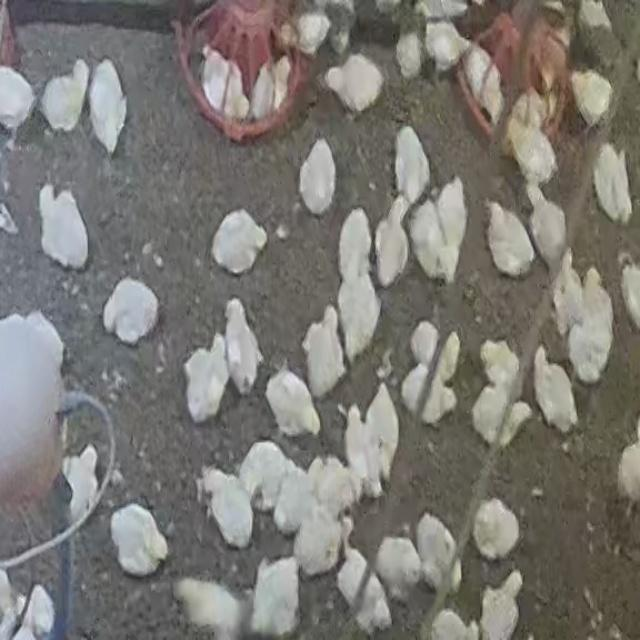chicken: (335, 212, 379, 356), (564, 268, 616, 384), (36, 181, 92, 273), (335, 546, 392, 633), (182, 329, 232, 427), (197, 469, 255, 550), (86, 56, 132, 158), (173, 577, 247, 639), (224, 295, 268, 399), (101, 273, 161, 347), (248, 556, 302, 638), (302, 304, 347, 402), (110, 503, 168, 577), (208, 208, 270, 277), (471, 387, 532, 455), (264, 366, 320, 440), (531, 346, 578, 434), (484, 200, 536, 279), (38, 56, 92, 132), (364, 384, 400, 490), (322, 53, 384, 114), (402, 365, 458, 432), (433, 176, 468, 282), (415, 512, 460, 593), (408, 196, 450, 281), (373, 533, 425, 601), (527, 193, 569, 277), (592, 141, 634, 223), (373, 196, 411, 286), (471, 496, 522, 562), (410, 320, 464, 382), (297, 138, 338, 218), (61, 444, 100, 527), (477, 571, 522, 639), (394, 125, 431, 204), (553, 252, 586, 338), (342, 402, 372, 496), (569, 68, 613, 128), (619, 258, 640, 332), (394, 28, 424, 79)
